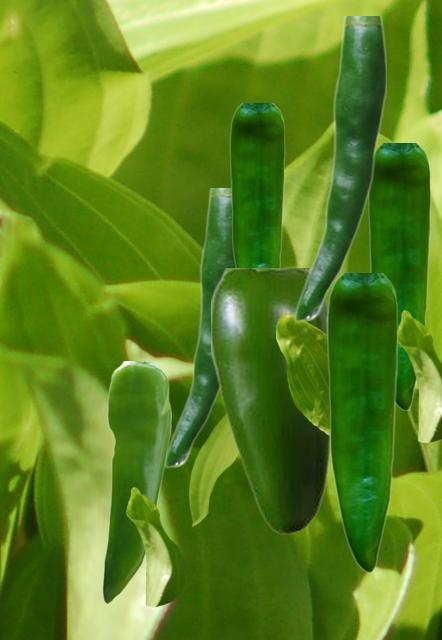green_chili: (211, 268, 330, 534), (293, 16, 385, 321), (326, 273, 397, 571), (166, 188, 234, 467), (367, 143, 430, 409), (102, 361, 170, 602), (229, 103, 284, 267)
